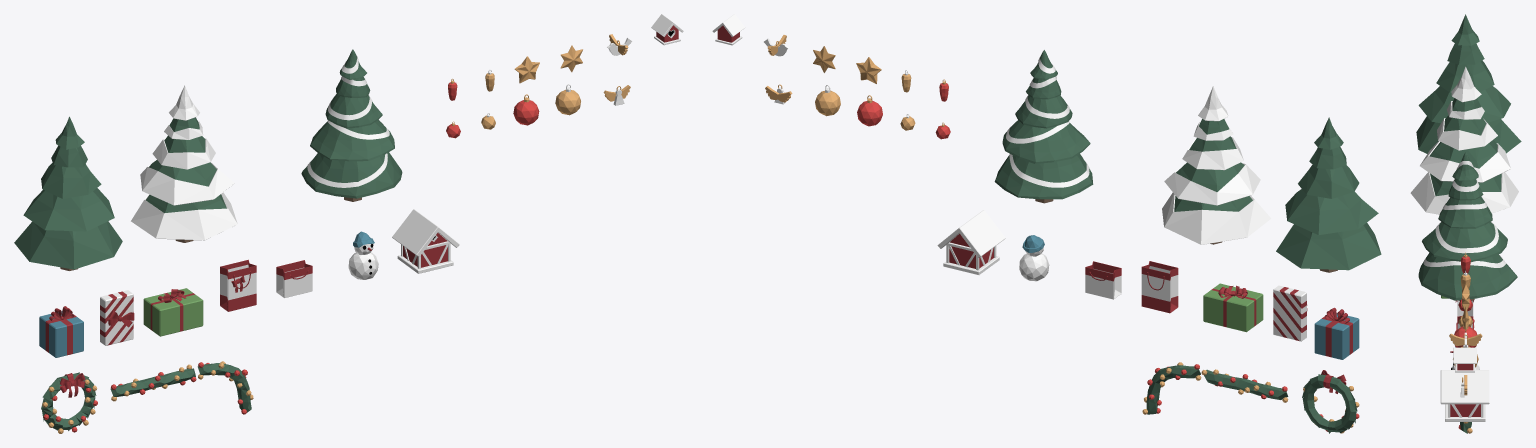
Rendered from christmas-2019-mobile.fbx.
3 views of the same model, side by side, from view 1: azimuth 30°, elevation 25°; view 2: azimuth 150°, elevation 25°; view 3: azimuth 270°, elevation 25° (orthographic). The views are drawn at different scales.
Parts seen in each view (by area): view 1: Pine-tree02.001, Pine-tree01.001, ChristmasTree.001, Cottage.001, present03.001, wreath.001, present01.001, present02.001, Giftbag01.001, Ornament-ribbon.001, girland01.001, Giftbag02.001 (+2 smaller); view 2: Pine-tree02.001, Pine-tree01.001, ChristmasTree.001, Cottage.001, present03.001, present01.001, wreath.001, Giftbag01.001, present02.001, Ornament-ribbon.001, girland01.001, Giftbag02.001 (+2 smaller); view 3: Pine-tree02.001, ChristmasTree.001, Pine-tree01.001, Cottage.001, Ornament-ribbon.001, Birdhouse.001, bird.001, ornament-03-red.001, star01.001, ornament-01-red.001, angel.001, ornament-01-gold.001 (+2 smaller).
Part boxes in pixels (x1,y1,x2,y2): Pine-tree02.001: (131, 85, 237, 242); Pine-tree01.001: (14, 116, 122, 270); ChristmasTree.001: (301, 49, 402, 201); Cottage.001: (392, 209, 459, 273); present03.001: (143, 288, 203, 336); wreath.001: (41, 372, 97, 433); present01.001: (39, 306, 83, 357); present02.001: (100, 290, 134, 345); Giftbag01.001: (220, 259, 256, 311); Ornament-ribbon.001: (307, 55, 389, 187); girland01.001: (110, 364, 196, 401); Giftbag02.001: (276, 260, 312, 297); Pine-tree02.001: (1162, 86, 1270, 244); Pine-tree01.001: (1276, 117, 1381, 272); ChristmasTree.001: (994, 50, 1093, 203); Cottage.001: (937, 210, 1005, 274); present03.001: (1203, 283, 1263, 332); present01.001: (1314, 307, 1359, 359); wreath.001: (1302, 370, 1359, 433); Giftbag01.001: (1141, 261, 1178, 313); present02.001: (1273, 285, 1307, 341); Ornament-ribbon.001: (1006, 56, 1089, 187); girland01.001: (1201, 369, 1288, 402); Giftbag02.001: (1085, 261, 1121, 299); Pine-tree02.001: (1410, 66, 1518, 214); ChristmasTree.001: (1418, 152, 1517, 300); Pine-tree01.001: (1416, 14, 1521, 153); Cottage.001: (1440, 370, 1489, 421); Ornament-ribbon.001: (1423, 161, 1505, 267); Birdhouse.001: (1453, 347, 1476, 372); bird.001: (1449, 332, 1482, 347); ornament-03-red.001: (1454, 325, 1477, 347); star01.001: (1462, 284, 1469, 309); ornament-01-red.001: (1460, 252, 1470, 273); angel.001: (1460, 375, 1467, 397); ornament-01-gold.001: (1460, 270, 1470, 289).
Bounding box in the file's own units: 13.63 × 6.82 × 2.04.
